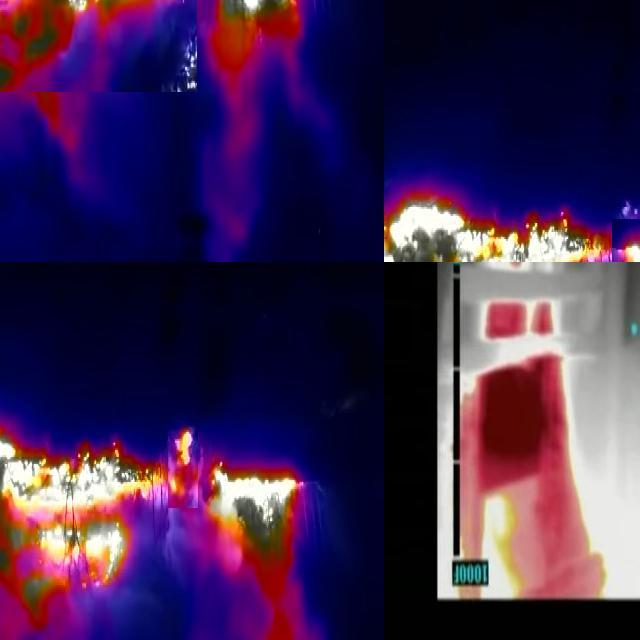fire: (454, 302, 606, 600), (1, 424, 164, 612), (1, 1, 197, 92), (385, 192, 607, 263), (204, 468, 304, 610), (211, 1, 314, 60), (168, 422, 198, 508)
